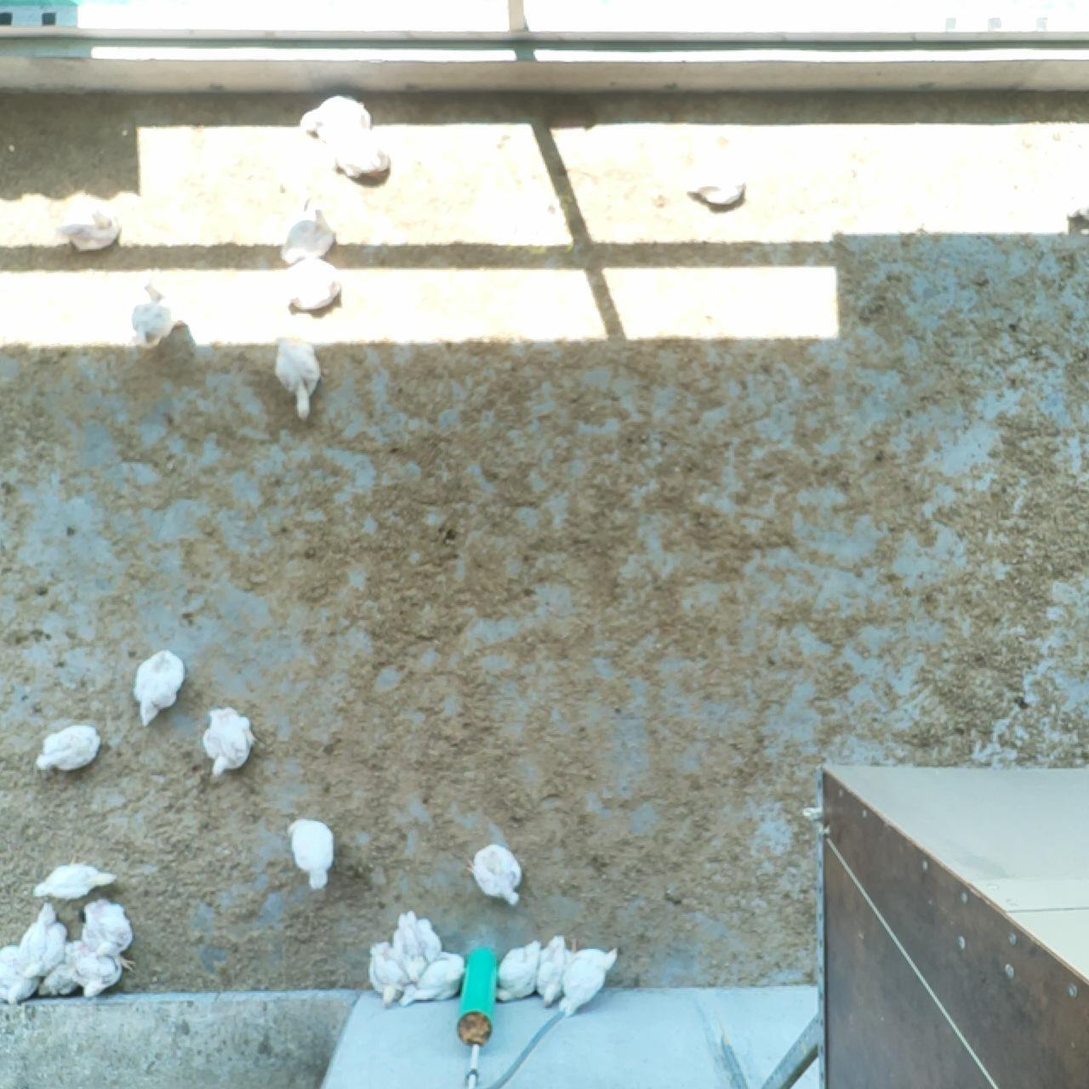chicken: (273, 328, 336, 424), (265, 255, 358, 318), (51, 188, 132, 257), (127, 280, 192, 359), (558, 945, 621, 1023), (318, 129, 401, 187), (285, 816, 345, 894), (200, 705, 257, 786), (680, 157, 755, 217), (462, 844, 529, 909), (133, 649, 188, 728), (279, 194, 338, 263), (29, 856, 121, 900), (30, 724, 108, 774), (20, 901, 69, 979), (69, 939, 127, 1000), (296, 96, 377, 139), (78, 902, 135, 959), (404, 954, 465, 1005), (393, 910, 436, 982), (497, 936, 541, 1003), (362, 940, 406, 1006), (536, 931, 569, 1012), (0, 941, 39, 1007), (38, 955, 81, 1000)
